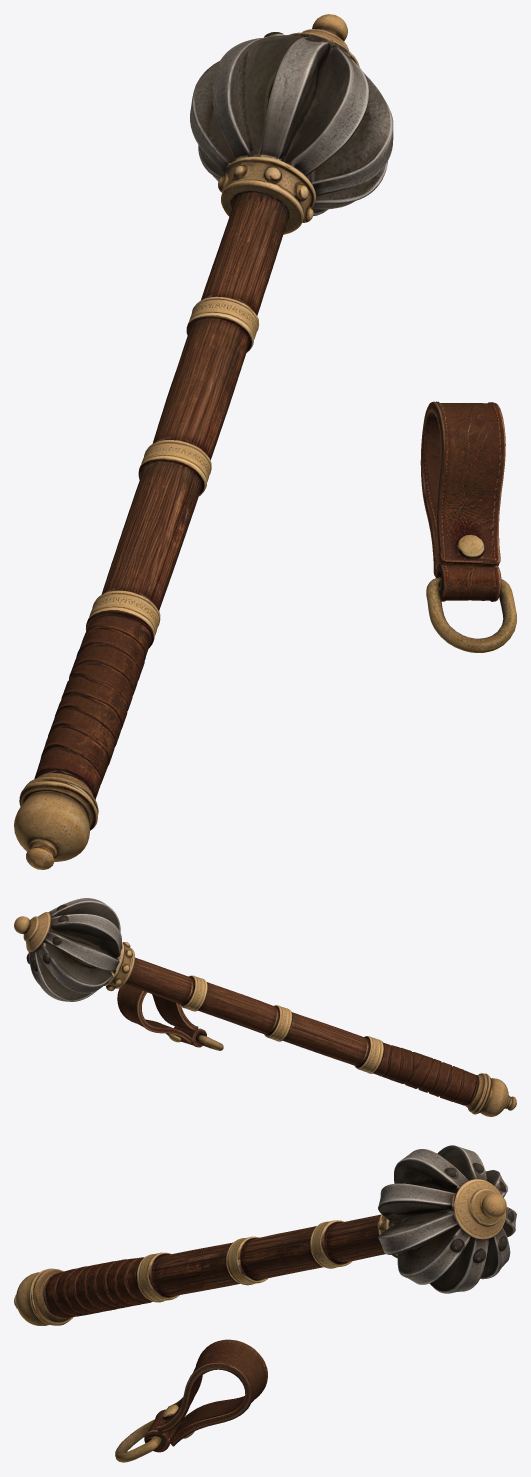
The model's file is Dilimli bozdoğan.glb.
3 views of the same model, one above another, from view 1: azimuth 30°, elevation 25°; view 2: azimuth 150°, elevation 25°; view 3: azimuth 270°, elevation 25° (orthographic). The views are drawn at different scales.
Visible parts, largest first — view 1: tripo_node_f3dce6a7-a755-420a-8a20-a19056b733fa; view 2: tripo_node_f3dce6a7-a755-420a-8a20-a19056b733fa; view 3: tripo_node_f3dce6a7-a755-420a-8a20-a19056b733fa.
Part boxes in pixels (<box>): tripo_node_f3dce6a7-a755-420a-8a20-a19056b733fa: <box>14,14,516,869</box>; tripo_node_f3dce6a7-a755-420a-8a20-a19056b733fa: <box>14,898,516,1116</box>; tripo_node_f3dce6a7-a755-420a-8a20-a19056b733fa: <box>14,1145,516,1462</box>.
Size of the model in its own units: 0.9798 by 0.7115 by 0.9243.
Materials: 1 (1 with a texture image).
